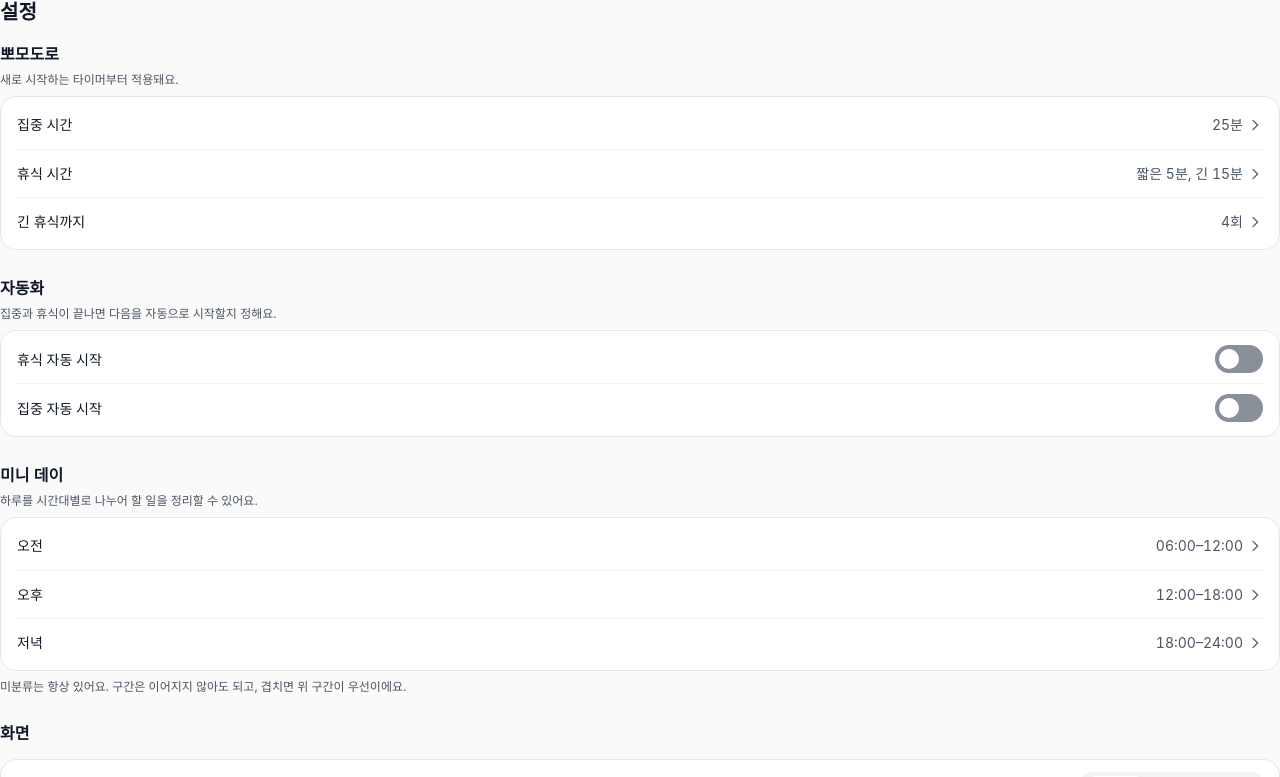
PomodoroSettingsPage › does not undo the first sheet choice when a second sheet choice follows quickly
What coordinates should you click on to do the following:
click the button "집중 시간 25분"
I would click on:
 (45, 124)
Its box is [17,101,1263,149].
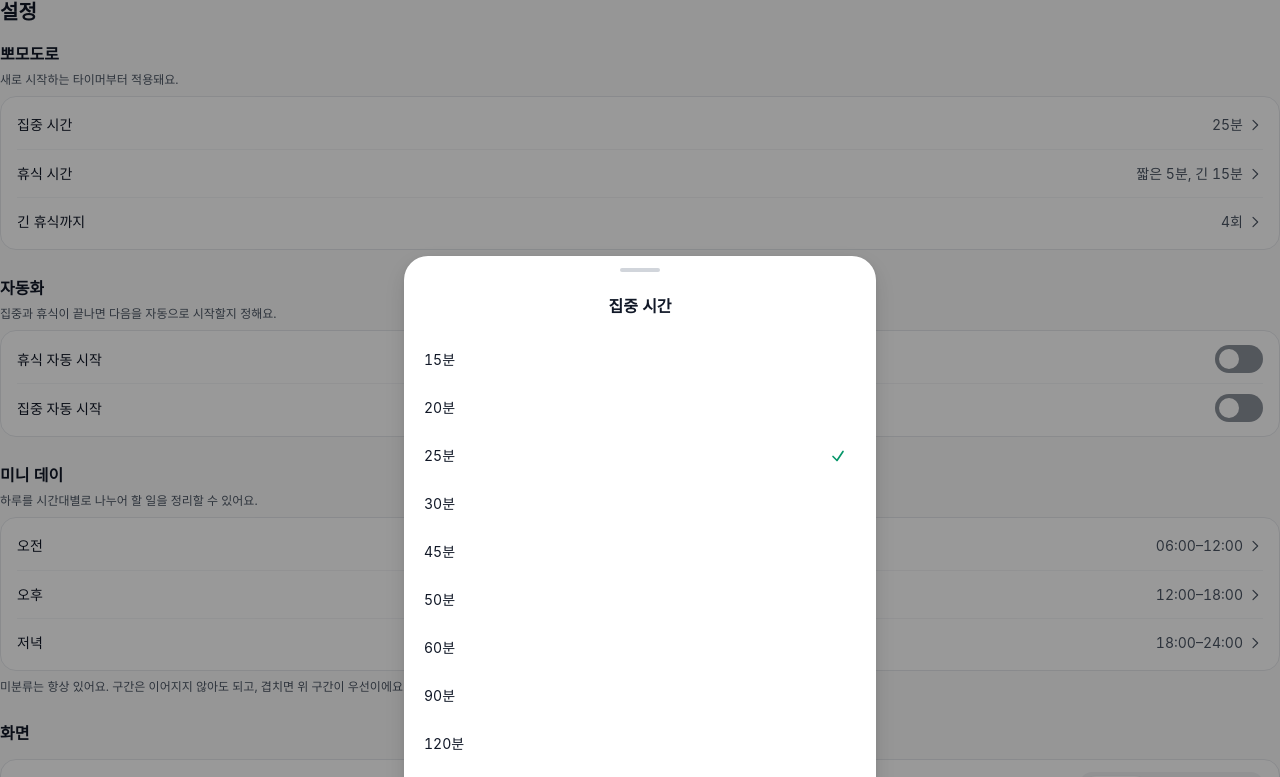
What coordinates should you click on to do the following:
click the button "30분"
I would click on:
 (440, 504)
Its box is [424,480,846,528].
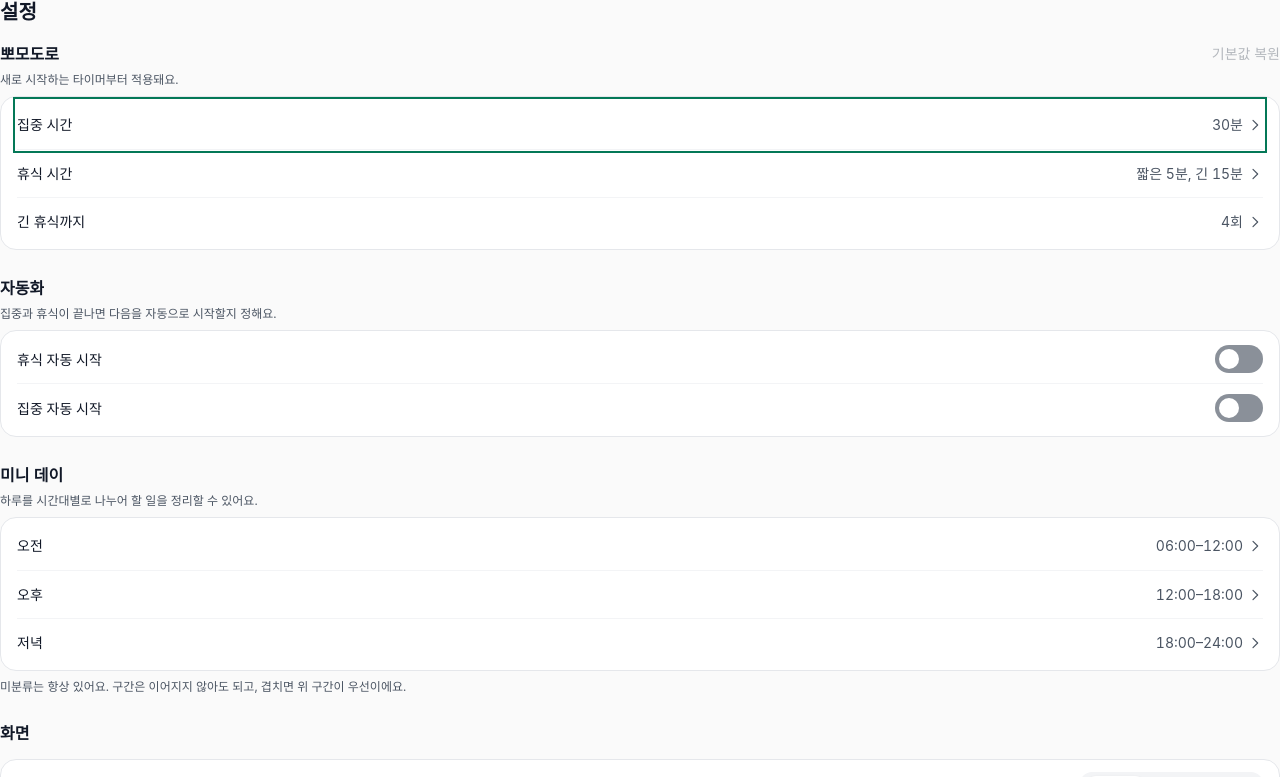
What coordinates should you click on to do the following:
click the button "긴 휴식까지 4회"
I would click on:
 (640, 221)
Its box is [17,197,1263,245].
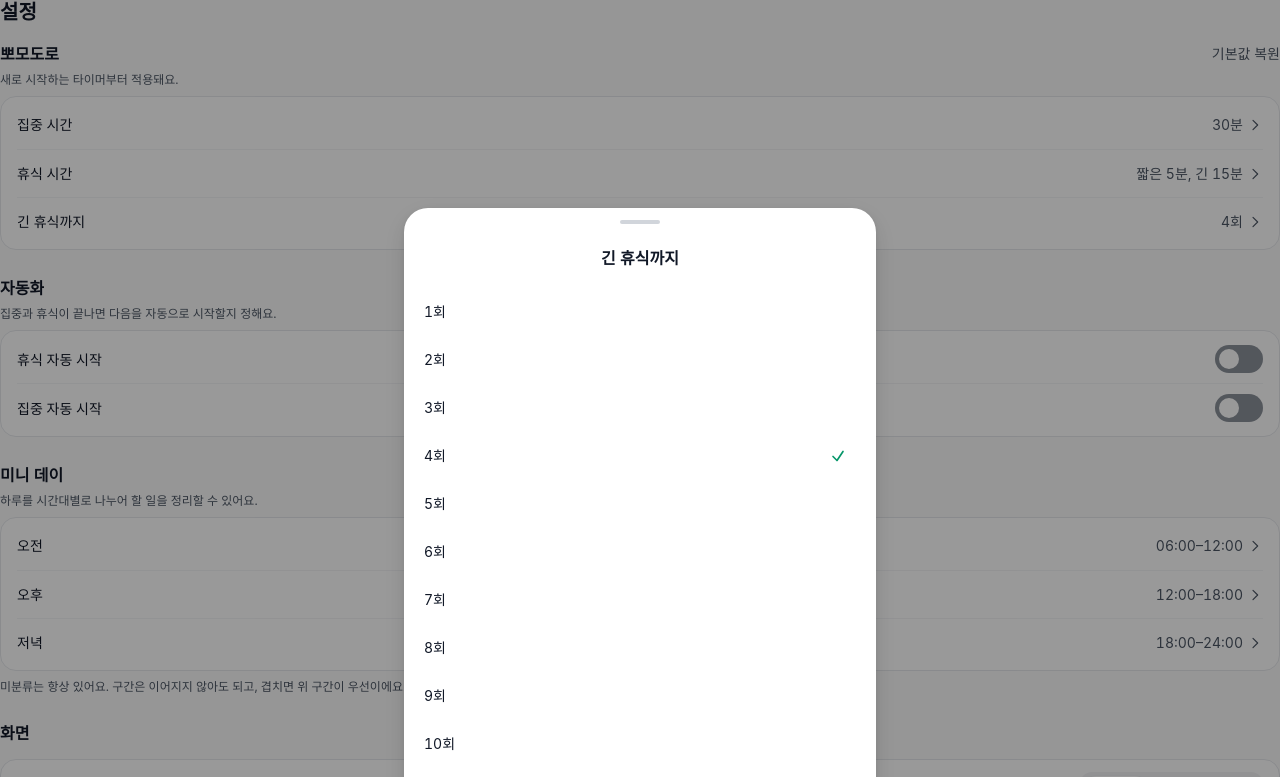
What coordinates should you click on to do the following:
click the button "6회"
I would click on:
 (435, 552)
Its box is [424,528,846,576].
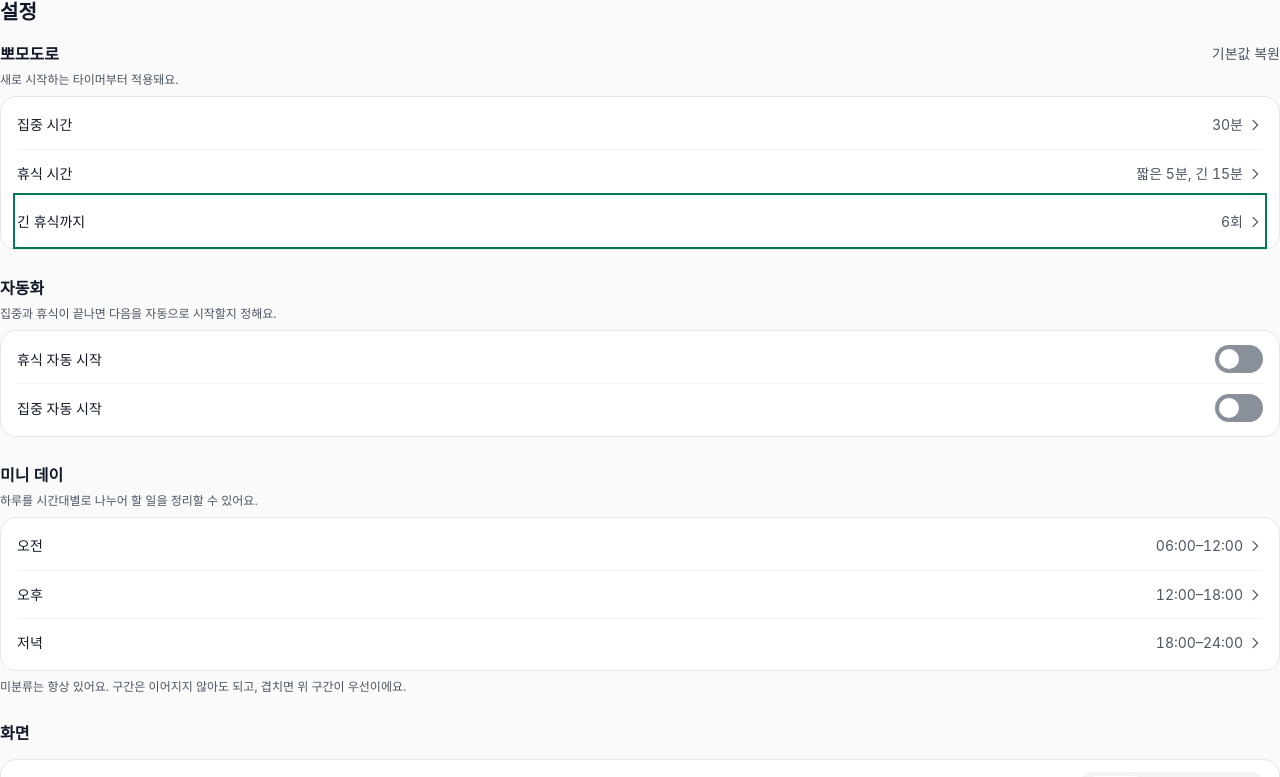
Expected: the button "집중 시간 30분" is shown, [17,101,1263,149]
Expected: the button "긴 휴식까지 6회" is shown, [17,197,1263,245]
